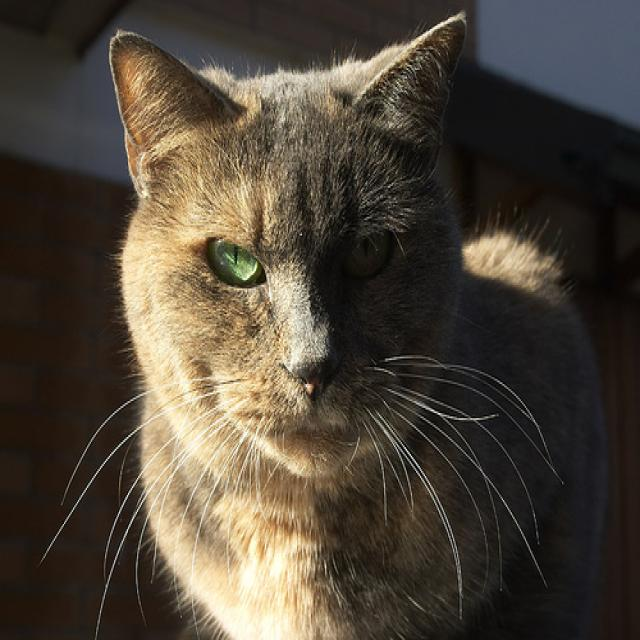left eye: (340, 223, 394, 280)
